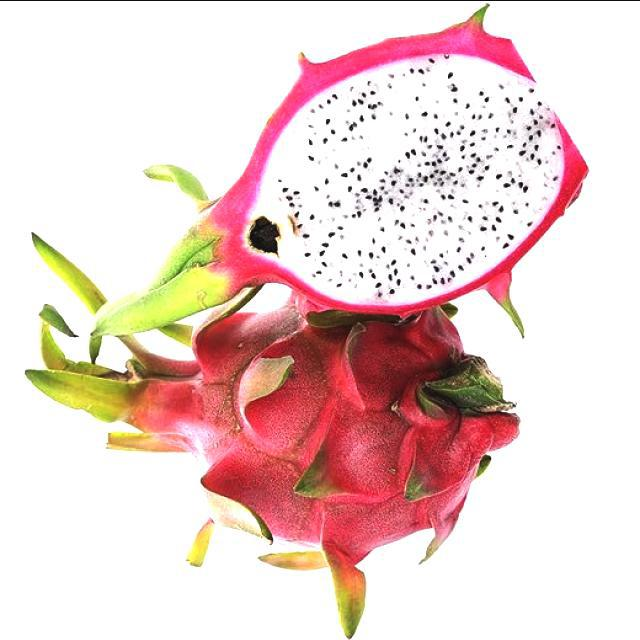trang: (97, 1, 591, 347), (32, 293, 520, 619)
